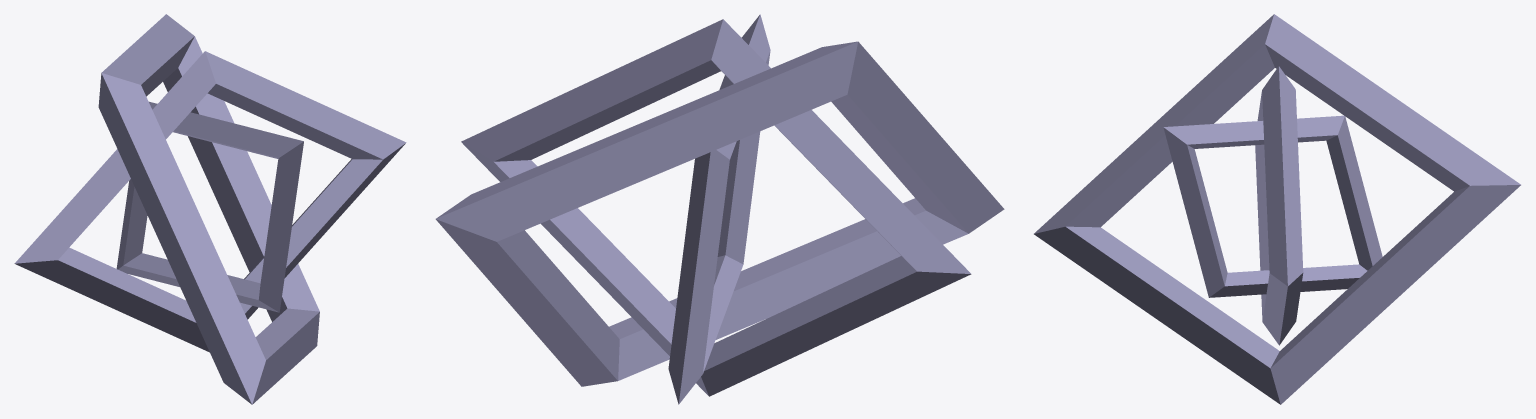
Rendered from BeamUV_low.FBX.
3 views of the same model, side by side, from view 1: azimuth 30°, elevation 25°; view 2: azimuth 150°, elevation 25°; view 3: azimuth 270°, elevation 25° (orthographic). The views are drawn at different scales.
Visible parts, largest first — view 1: BeamUV_low; view 2: BeamUV_low; view 3: BeamUV_low.
Part boxes in pixels (left/top/right/bottom): BeamUV_low: left=14, top=14, right=406, bottom=404; BeamUV_low: left=435, top=14, right=1004, bottom=404; BeamUV_low: left=1034, top=14, right=1520, bottom=404.
Size of what is drawn, in the model's own units: 268 by 314 by 210.
